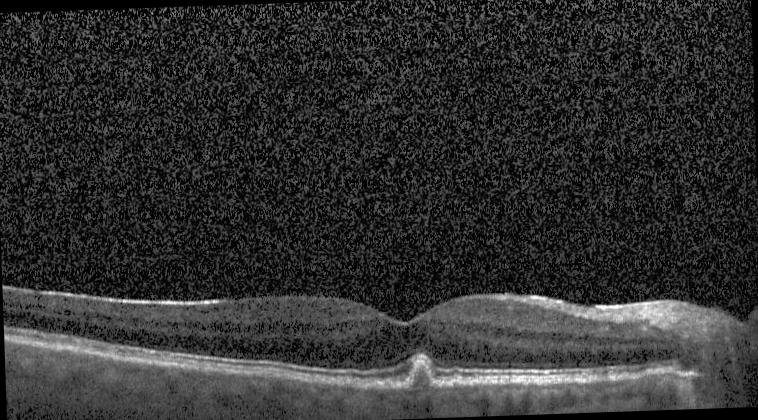retinal_drusen: (410, 363, 430, 388), (593, 373, 611, 383), (617, 374, 633, 382), (368, 382, 383, 389), (528, 377, 538, 386), (452, 380, 461, 389), (384, 380, 393, 388), (473, 381, 482, 388), (442, 382, 450, 389)
